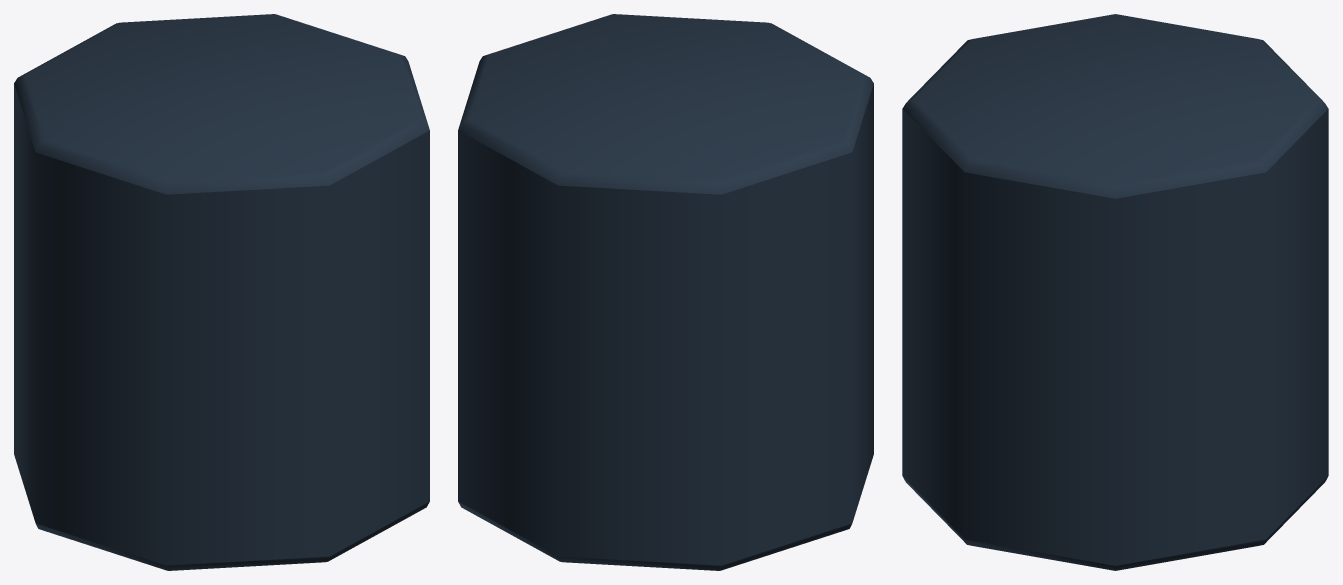
File: Lampshade_01.FBX
3 views of the same model, side by side, from view 1: azimuth 30°, elevation 25°; view 2: azimuth 150°, elevation 25°; view 3: azimuth 270°, elevation 25° (orthographic).
Visible parts, largest first — view 1: Lampshade_01; view 2: Lampshade_01; view 3: Lampshade_01.
Boxes of the visible parts, x1,y1,x2,y2 form: Lampshade_01: (14, 14, 429, 570); Lampshade_01: (458, 14, 873, 570); Lampshade_01: (902, 14, 1328, 570).
Size of the model in its own units: 3.94 by 3.94 by 3.94.
